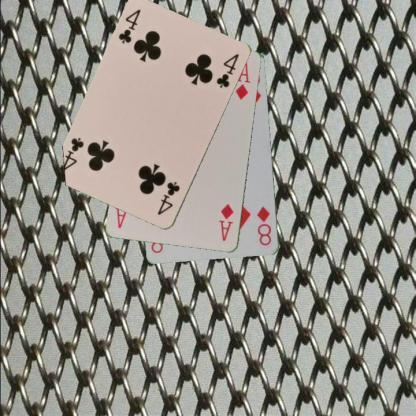4c: (154, 178, 182, 216), (116, 7, 142, 46)
8d: (254, 204, 272, 248)
Ad: (217, 201, 235, 243)
